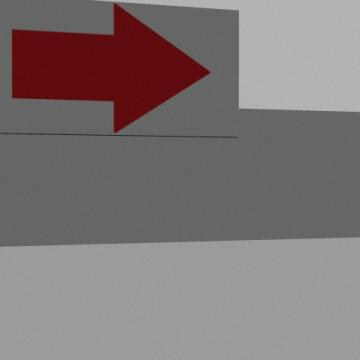red_right: (12, 4, 210, 133)
